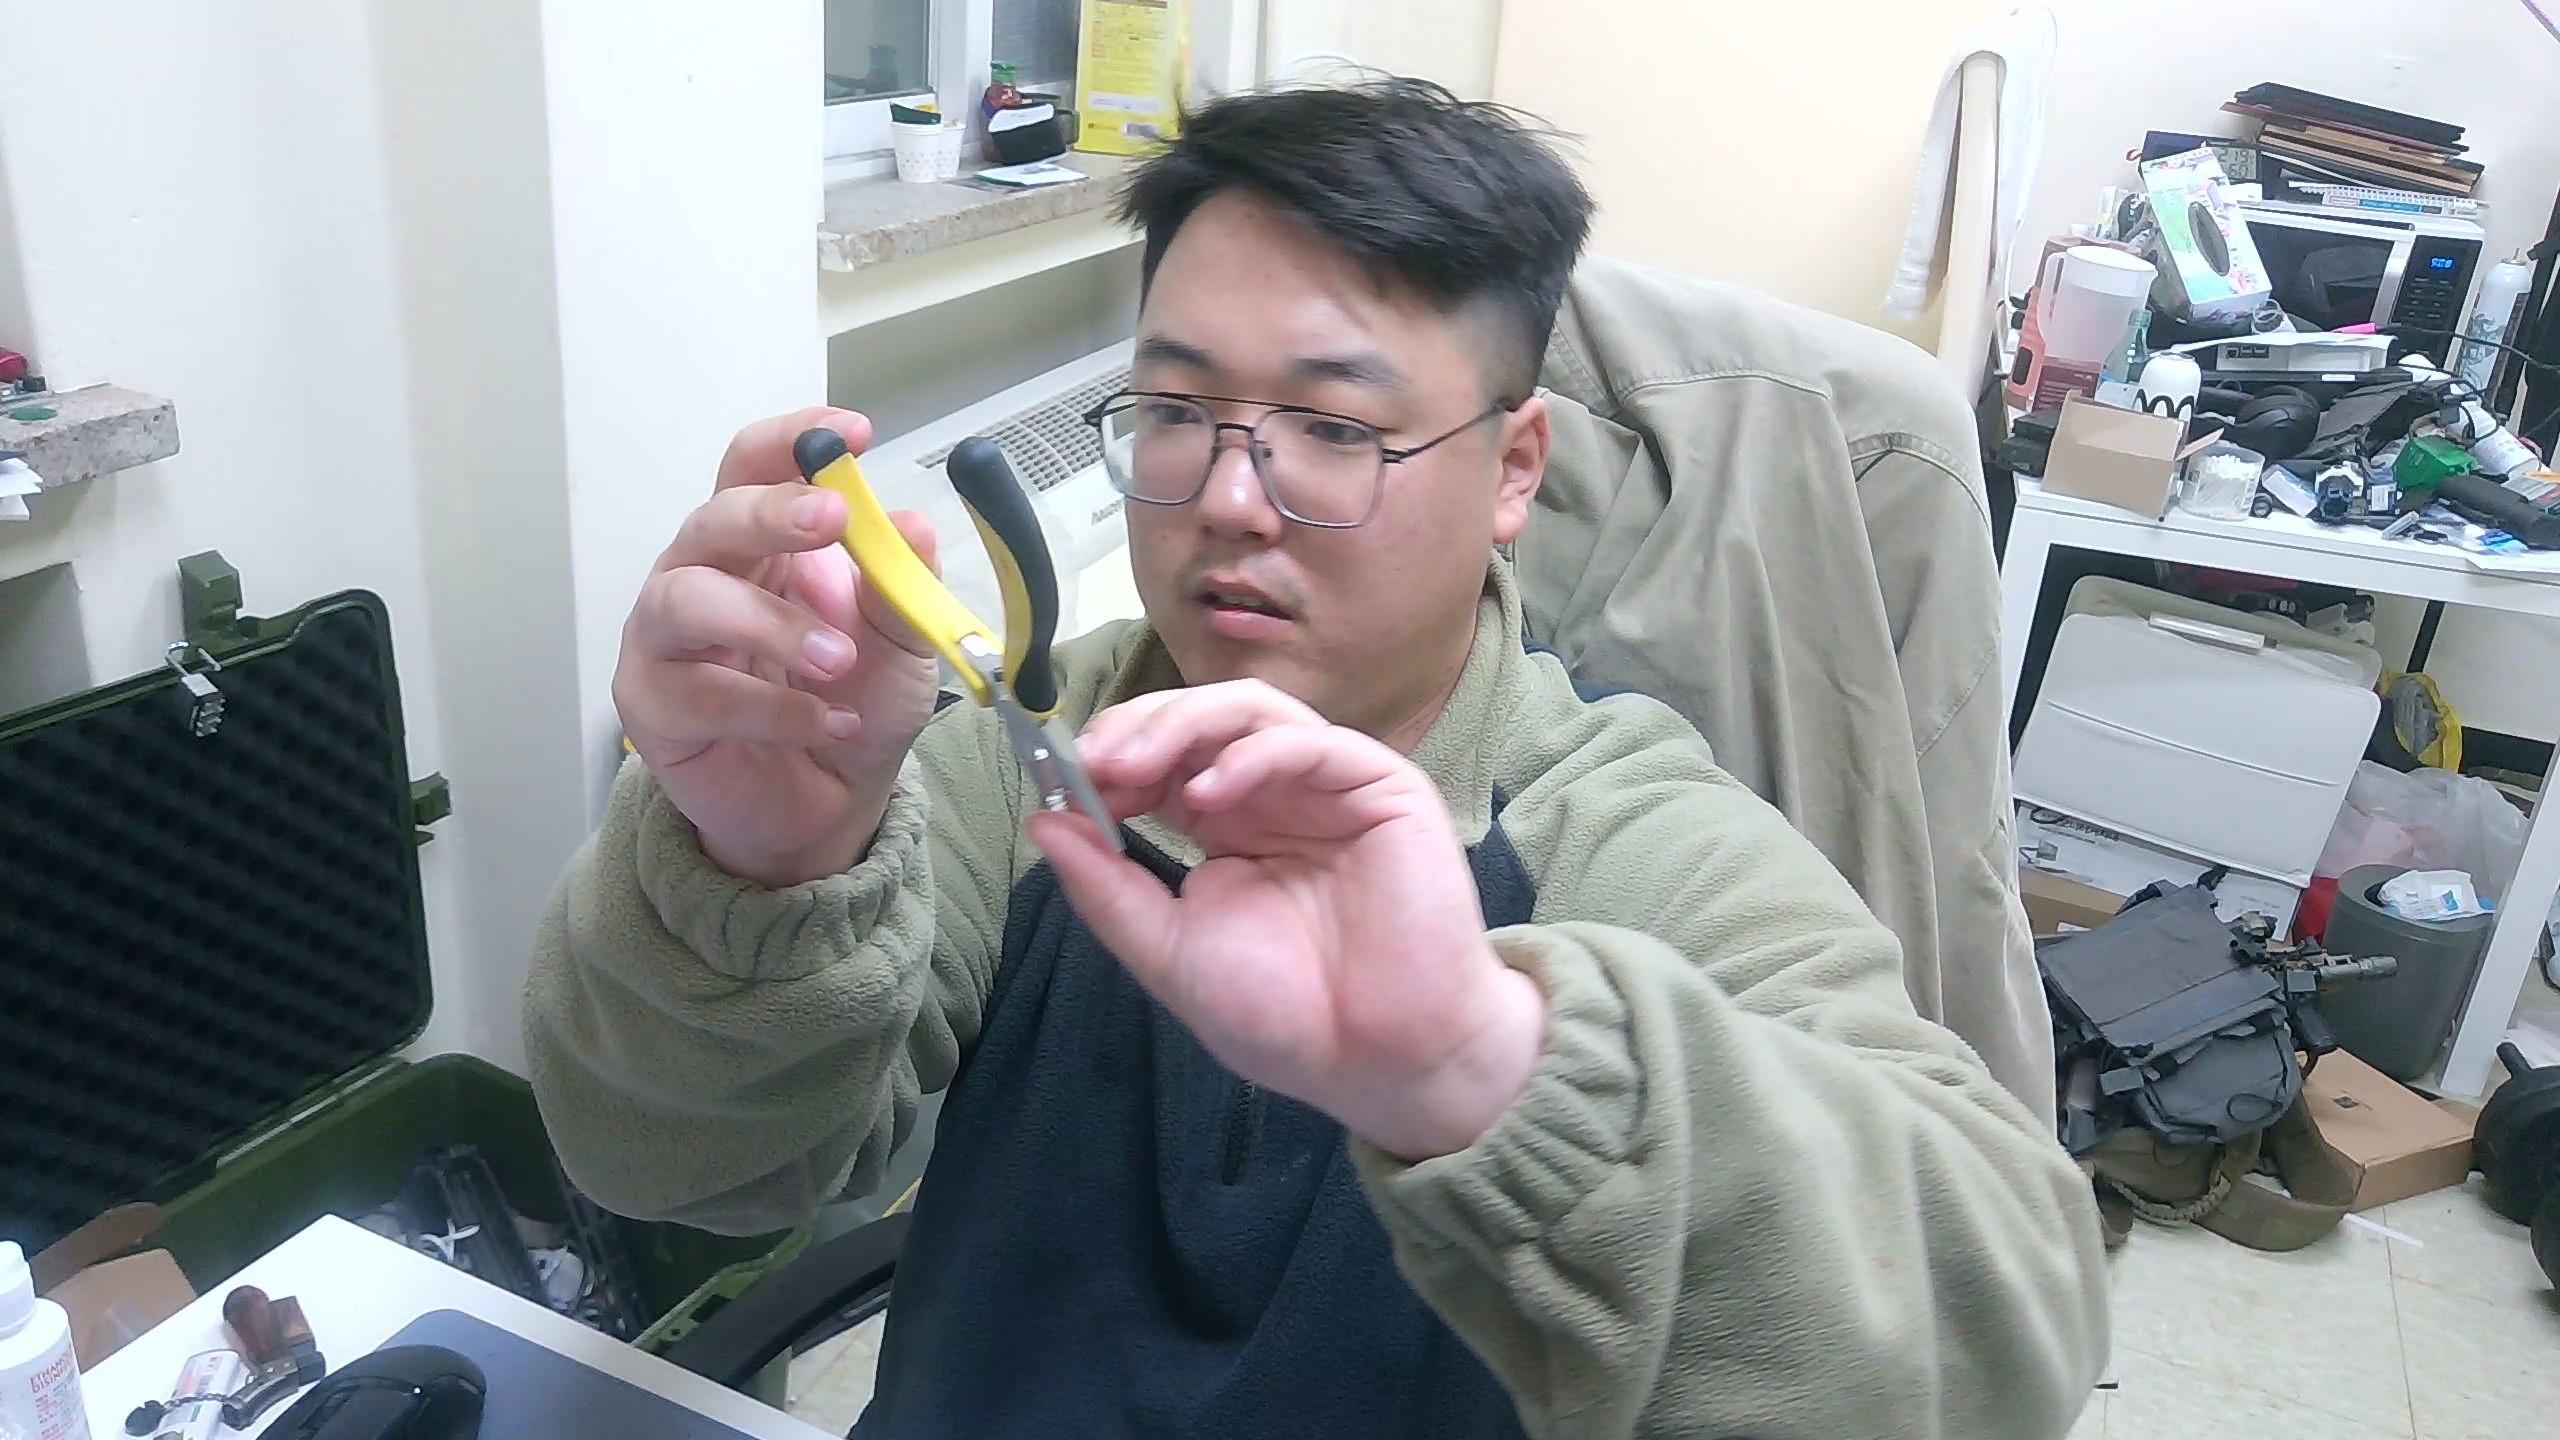earphone: (789, 422, 1132, 863)
